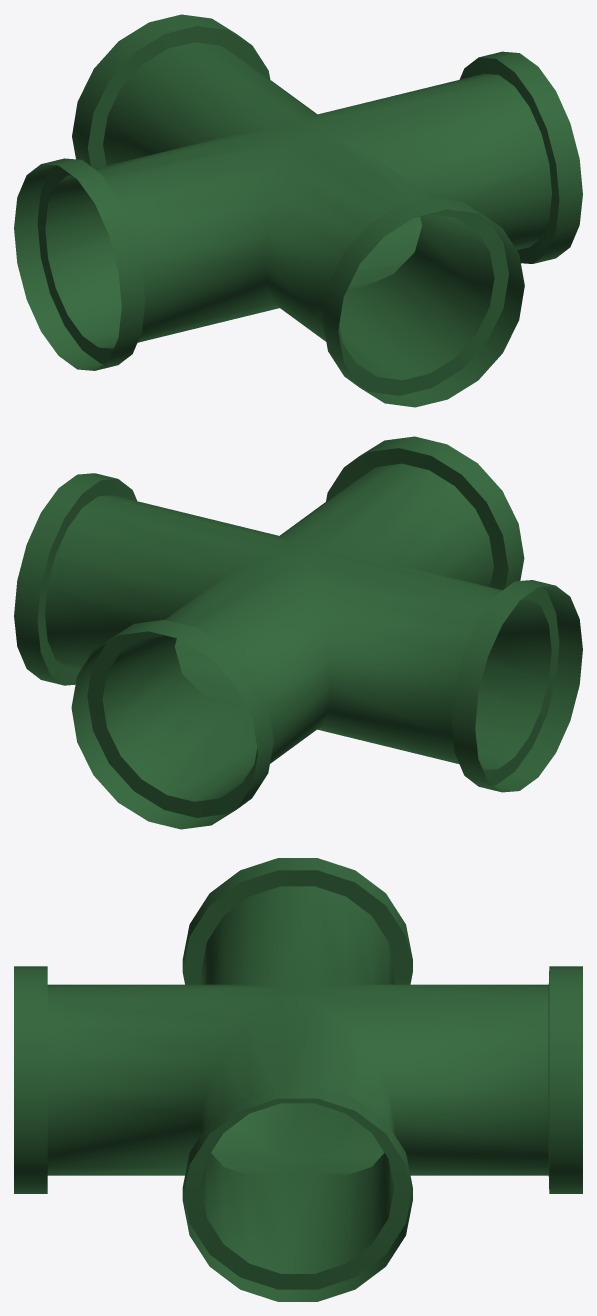
3 views of the same model, one above another, from view 1: azimuth 30°, elevation 25°; view 2: azimuth 150°, elevation 25°; view 3: azimuth 270°, elevation 25° (orthographic). The views are drawn at different scales.
Parts seen in each view (by area): view 1: X; view 2: X; view 3: X.
Part boxes in pixels (<box>): X: <box>14,14,582,407</box>; X: <box>14,436,582,829</box>; X: <box>14,858,582,1301</box>.
Size of the model in its own units: 1 by 0.3942 by 1.
